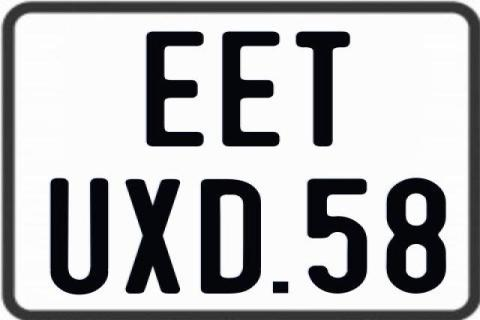0: (307, 178, 372, 294), (383, 177, 444, 293)
D: (200, 180, 260, 298)
E: (219, 29, 283, 149), (143, 30, 202, 148)
T: (293, 29, 348, 145)
U: (50, 178, 112, 298)
X: (125, 179, 185, 297)
